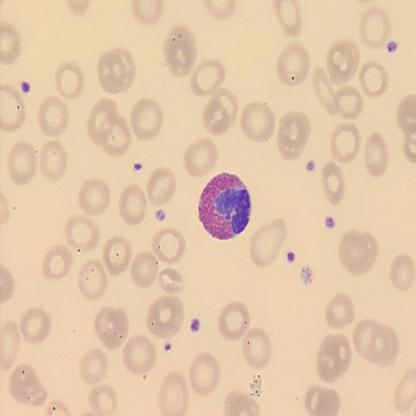Eosinophil: (198, 171, 253, 239)
